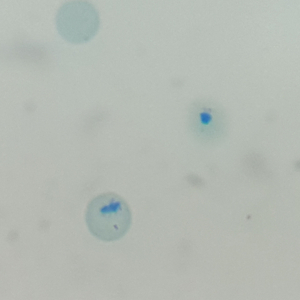erythrocyte: (83, 190, 133, 243), (53, 1, 102, 46)
